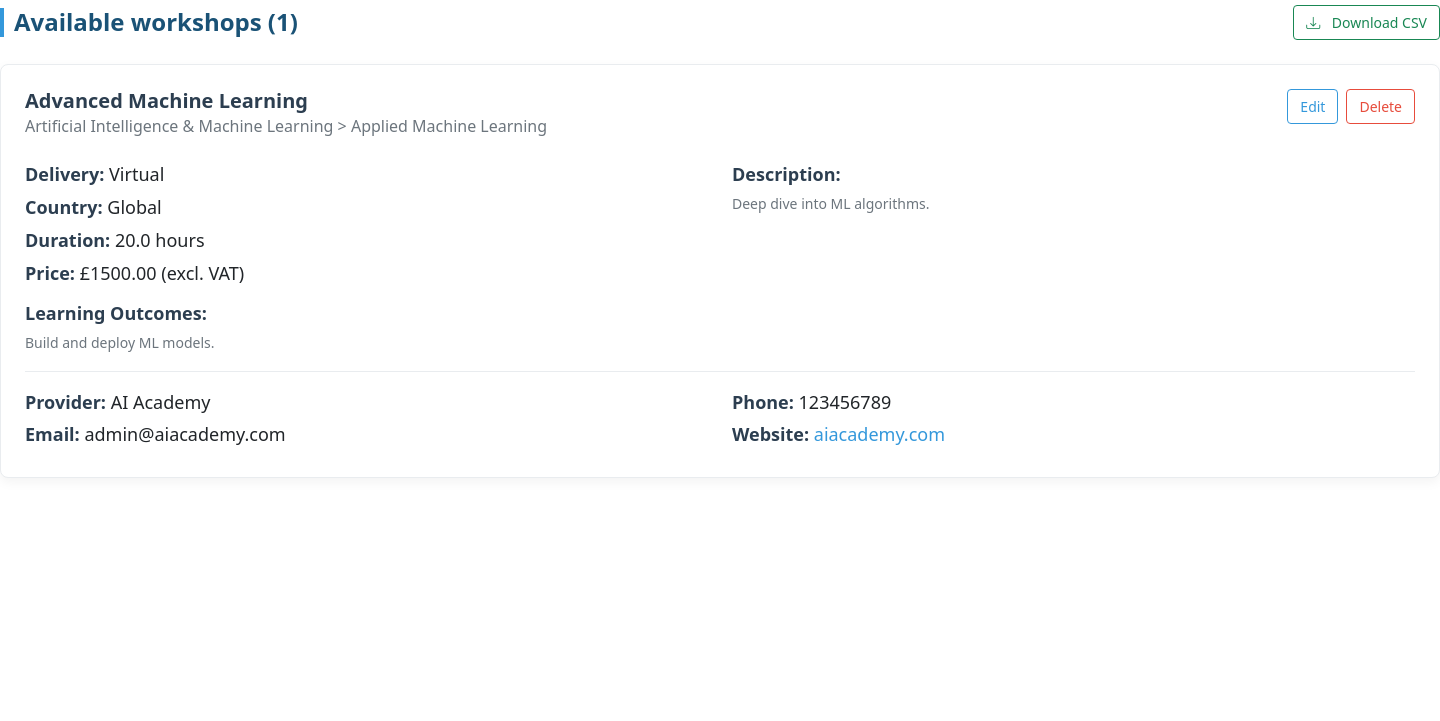
Test case: CoursesAdmin Component › shows error on update failure
Expected: the heading "Available workshops (1)" is shown, [0,8,298,37]
Step 1. Click the button "Edit" → x=1313, y=106, box [1287,89,1338,124]
(page scrolled)
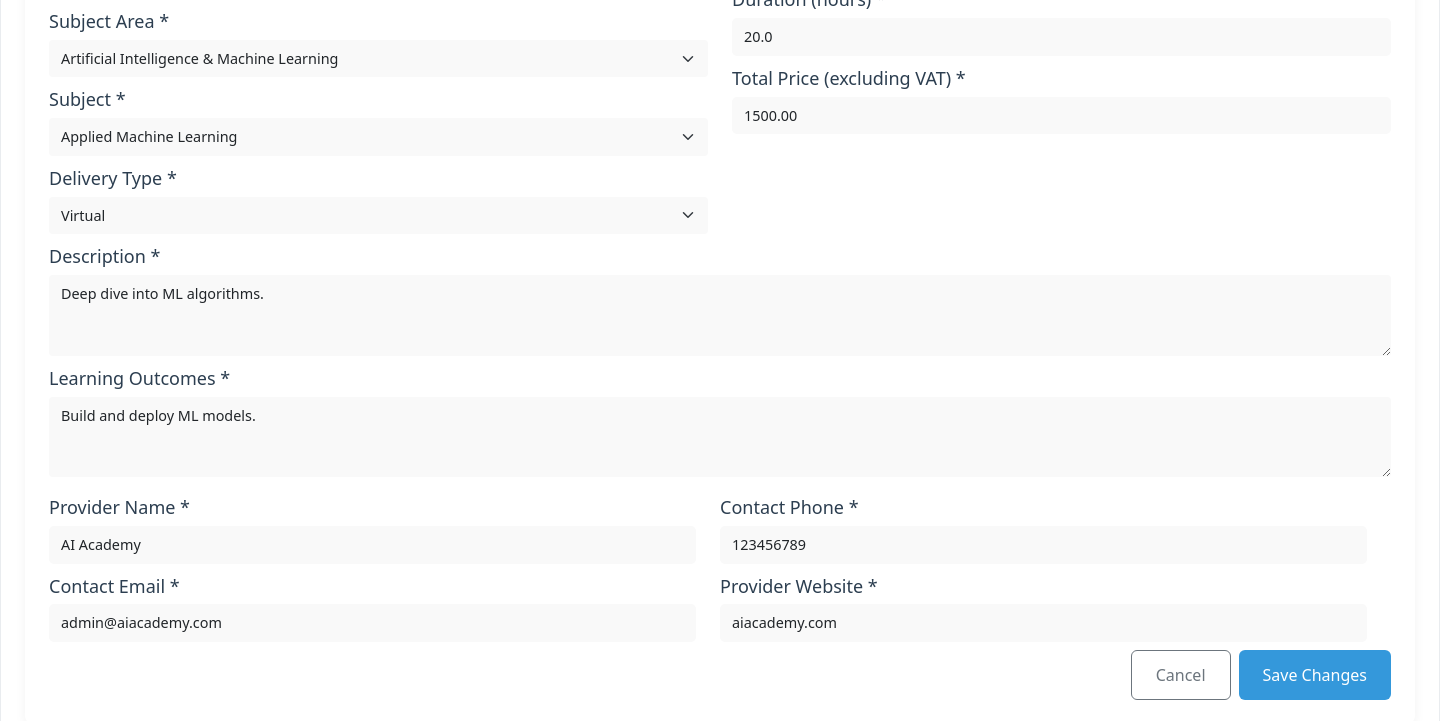
Step 2. Click the button "Save Changes" → x=1315, y=675, box [1238,650,1391,700]
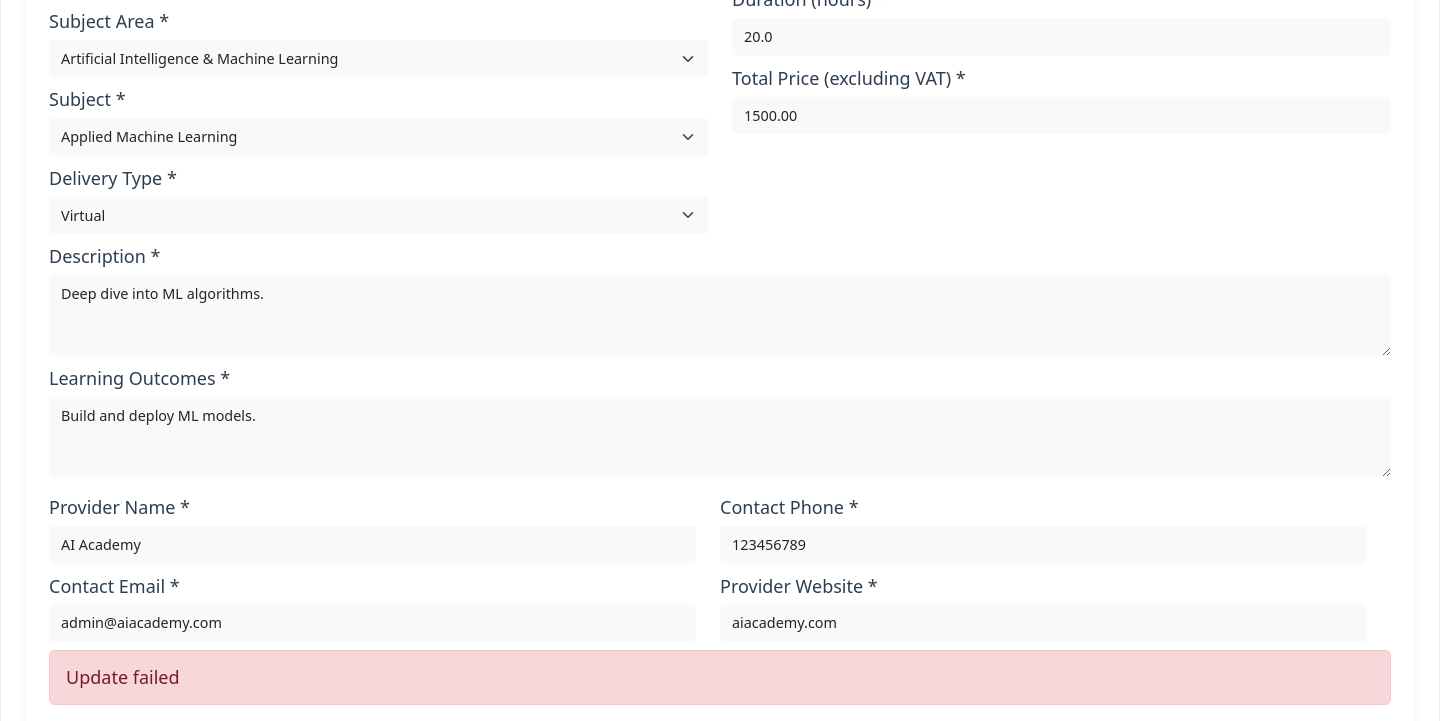
Expected: the text "Update failed" is shown, [49,650,1391,705]
